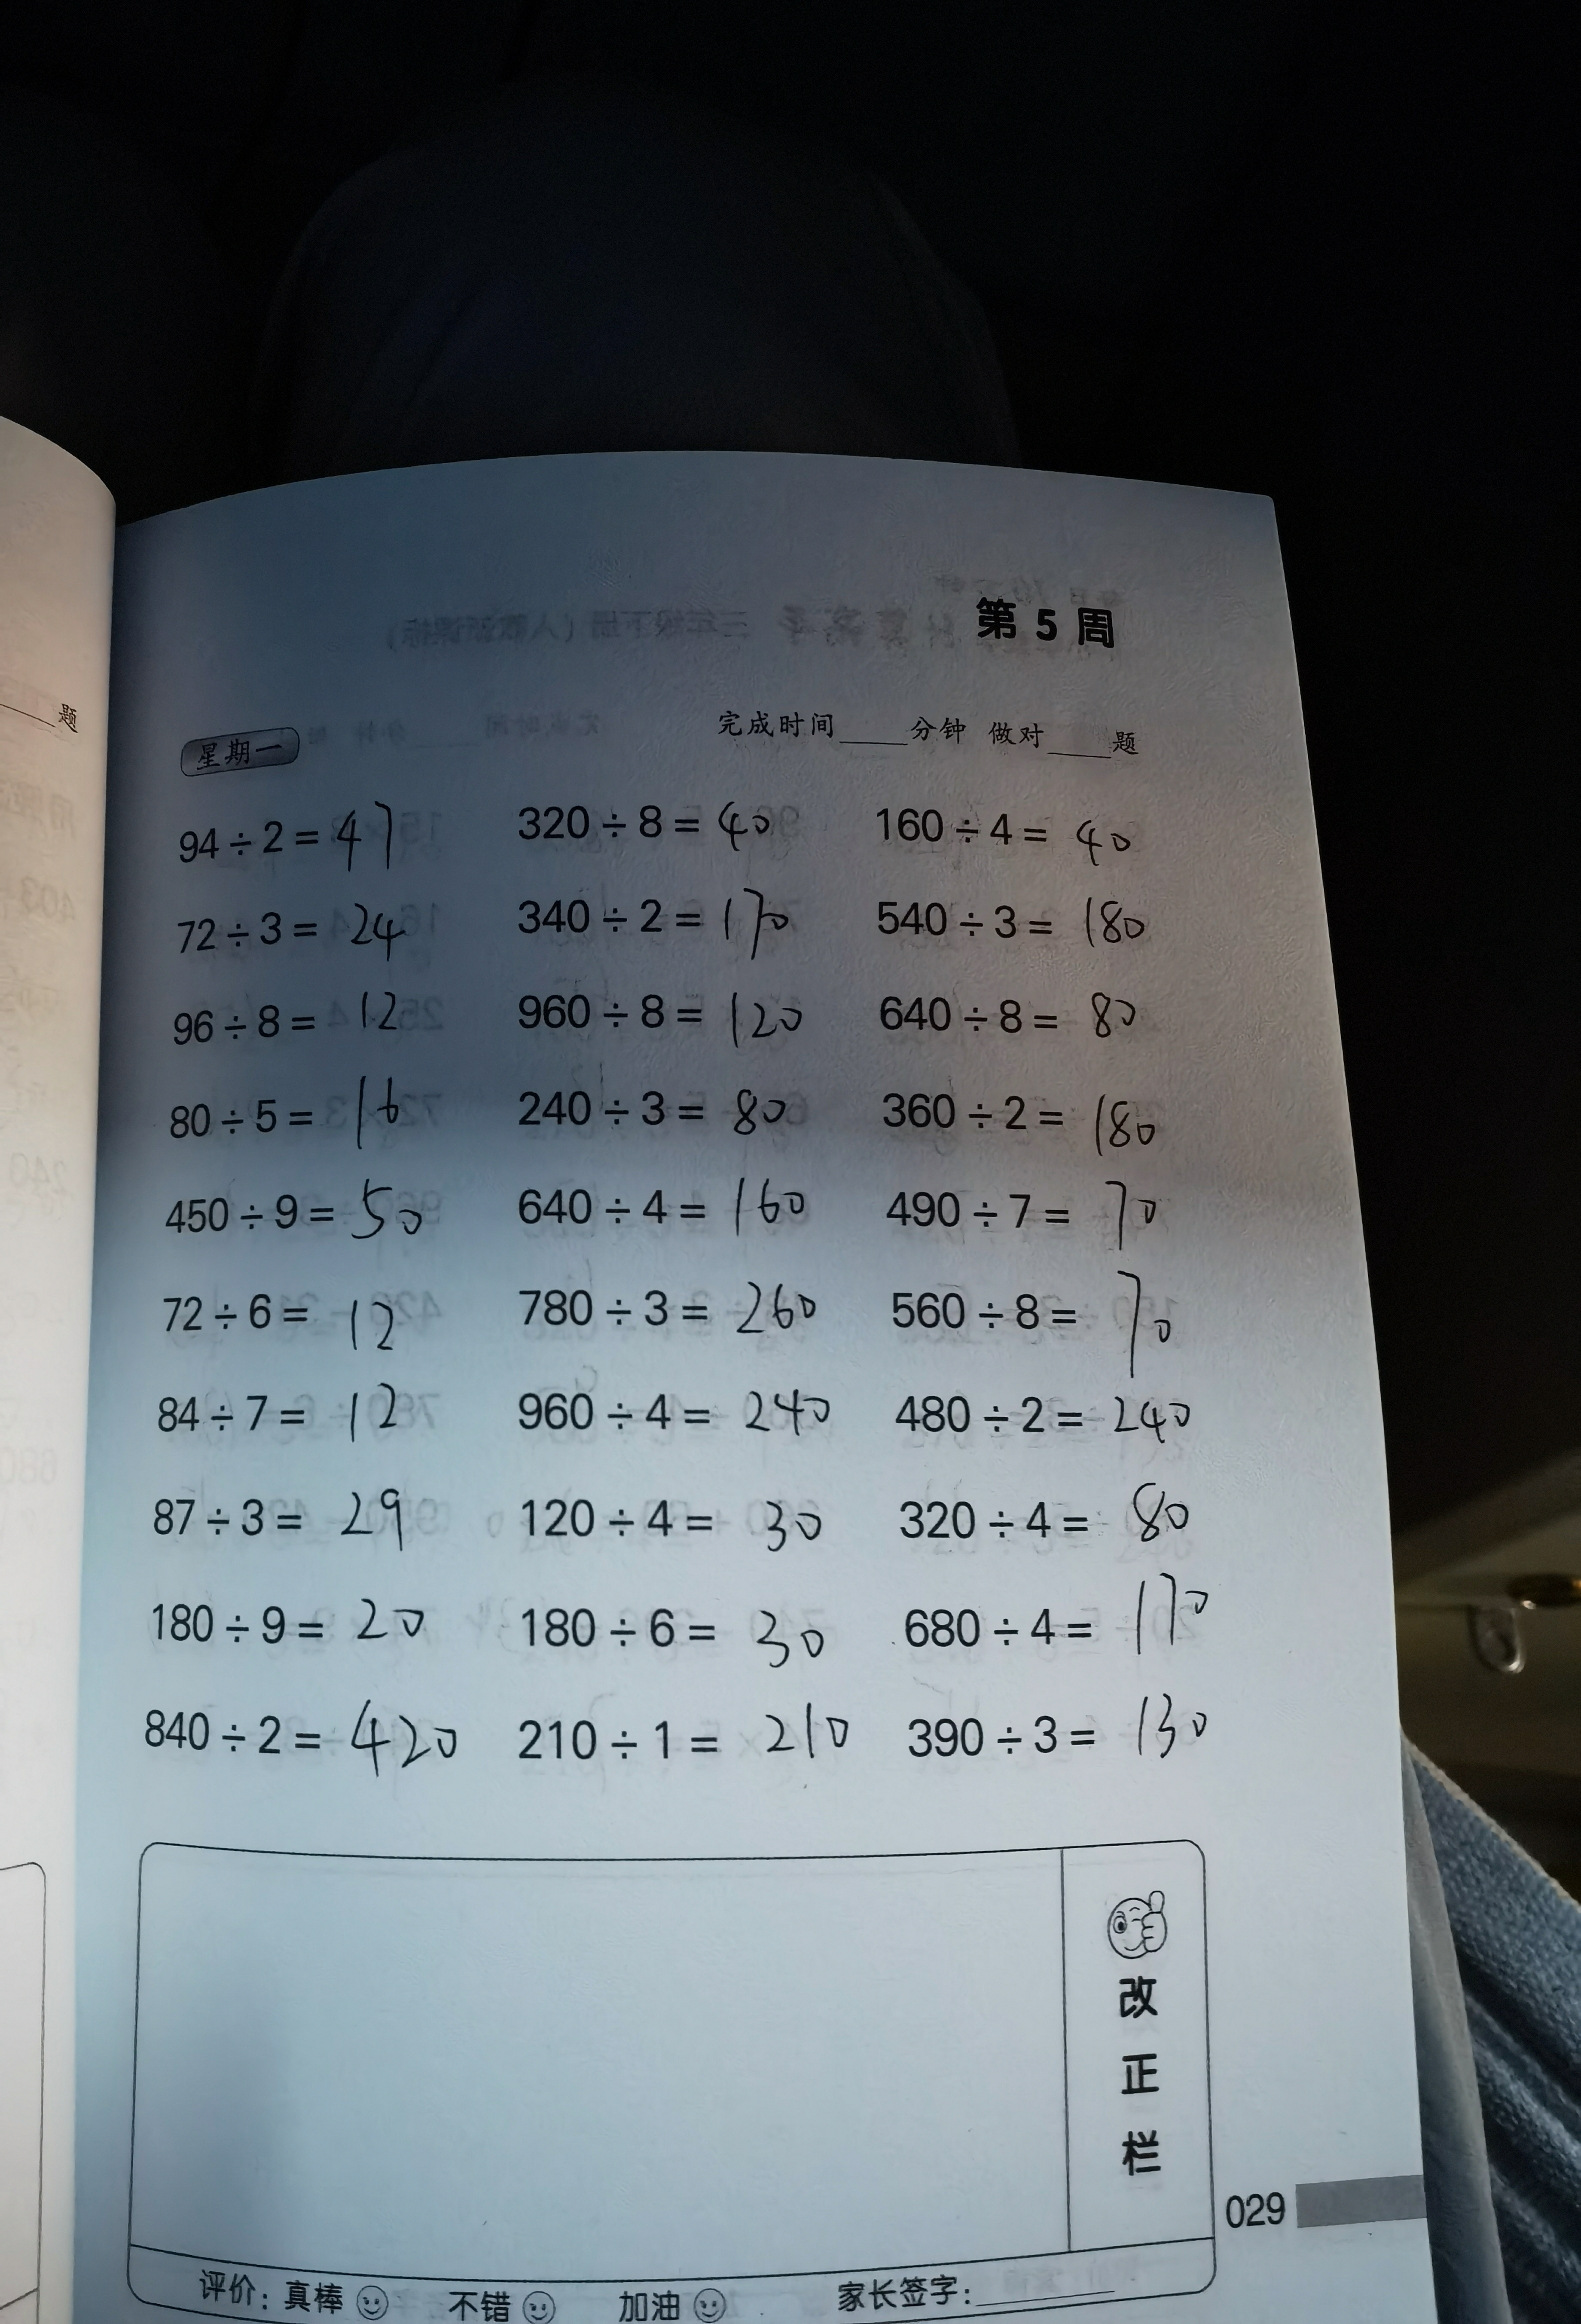equation: (884, 1569, 1267, 1676), (120, 1682, 473, 1789), (478, 1694, 872, 1788), (884, 1699, 1272, 1788), (879, 1272, 1212, 1364), (861, 775, 1163, 873), (872, 1369, 1226, 1452), (506, 1579, 852, 1662), (157, 1161, 438, 1258), (510, 967, 833, 1050), (501, 1380, 845, 1456), (872, 1168, 1200, 1248), (505, 1486, 845, 1562), (124, 1472, 431, 1553), (873, 1078, 1186, 1158), (164, 1274, 423, 1368), (501, 1168, 822, 1242), (866, 1493, 1225, 1558), (129, 1592, 457, 1662), (519, 1278, 854, 1345), (858, 888, 1188, 955), (865, 976, 1175, 1046), (508, 787, 776, 866), (161, 1076, 429, 1152), (505, 1073, 813, 1138), (515, 881, 796, 951), (132, 1380, 445, 1442), (164, 798, 413, 865), (169, 995, 420, 1061), (166, 903, 431, 963)
